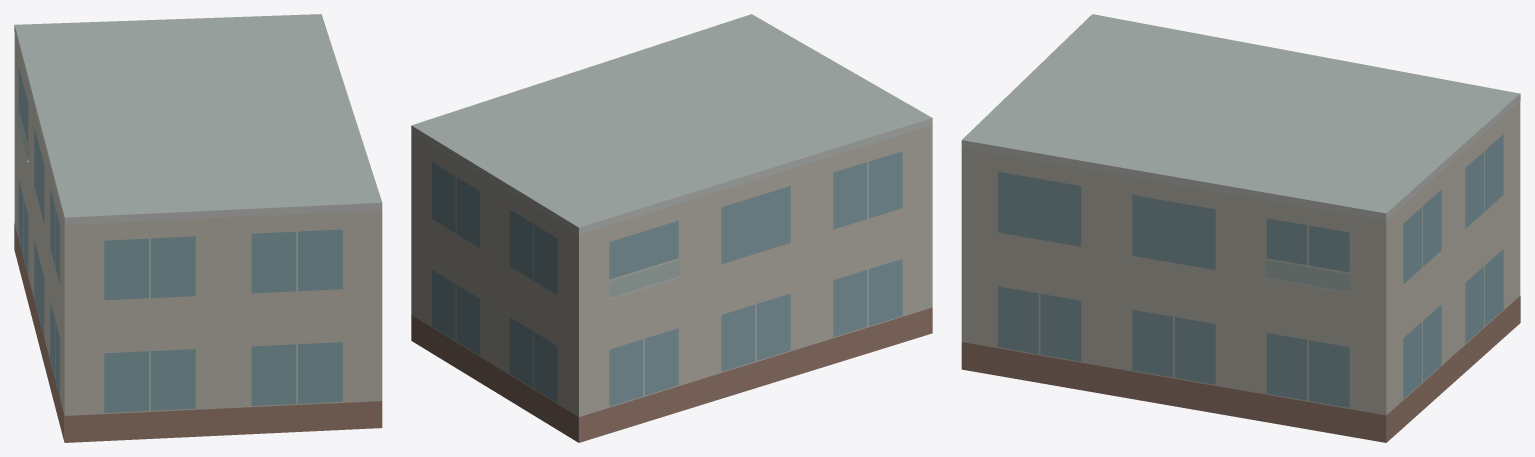
Rendered from survey-upis-32934270.glb.
3 views of the same model, side by side, from view 1: azimuth 30°, elevation 25°; view 2: azimuth 150°, elevation 25°; view 3: azimuth 270°, elevation 25° (orthographic). The views are drawn at different scales.
Visible parts, largest first — view 1: survey-upis-32934270.tmp; view 2: survey-upis-32934270.tmp; view 3: survey-upis-32934270.tmp.
Boxes of the visible parts, left/top/right/bottom form: survey-upis-32934270.tmp: left=14, top=14, right=382, bottom=442; survey-upis-32934270.tmp: left=411, top=14, right=932, bottom=442; survey-upis-32934270.tmp: left=961, top=14, right=1520, bottom=442.
Size of the model in its own units: 13.99 by 7.5 by 16.56.
